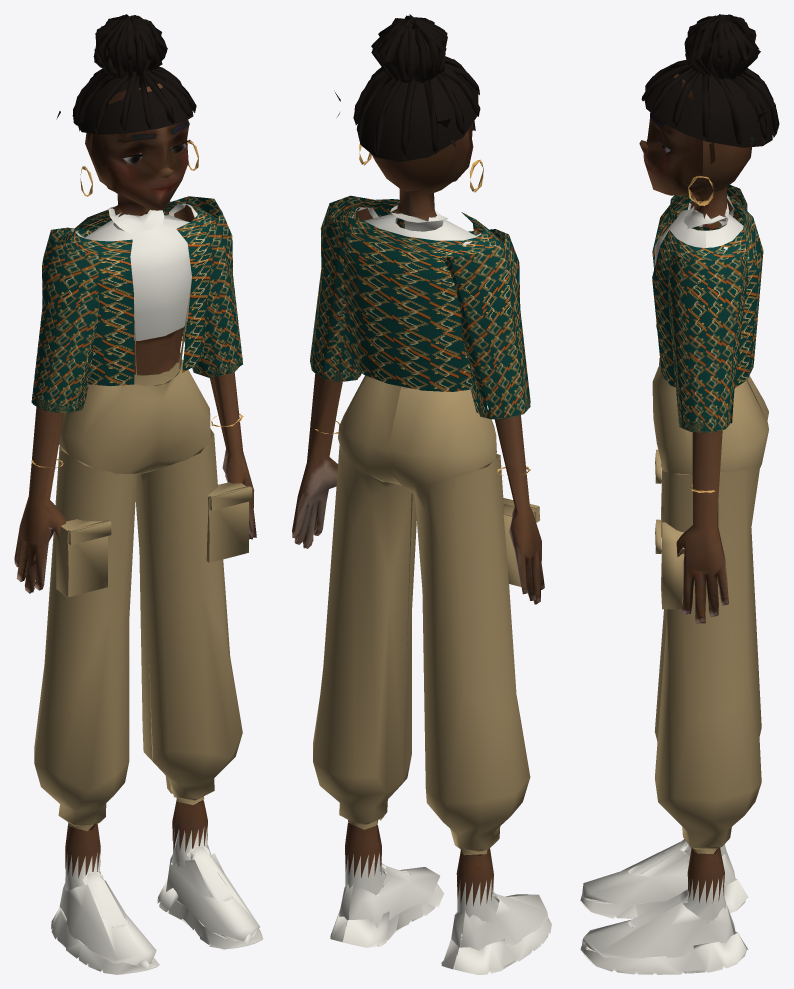
Rendered from explorer-resident-low.glb.
3 views of the same model, side by side, from view 1: azimuth 30°, elevation 25°; view 2: azimuth 150°, elevation 25°; view 3: azimuth 270°, elevation 25° (orthographic). The views are drawn at different scales.
Parts seen in each view (by area): view 1: Explorer_Resident; view 2: Explorer_Resident; view 3: Explorer_Resident.
Part boxes in pixels (x1,y1,x2,y2): Explorer_Resident: (14,14,263,974); Explorer_Resident: (292,14,551,974); Explorer_Resident: (580,14,779,974).
Bounding box in the file's own units: 0.4457 × 1.67 × 0.3281.
Materials: 7 (2 with a texture image).
